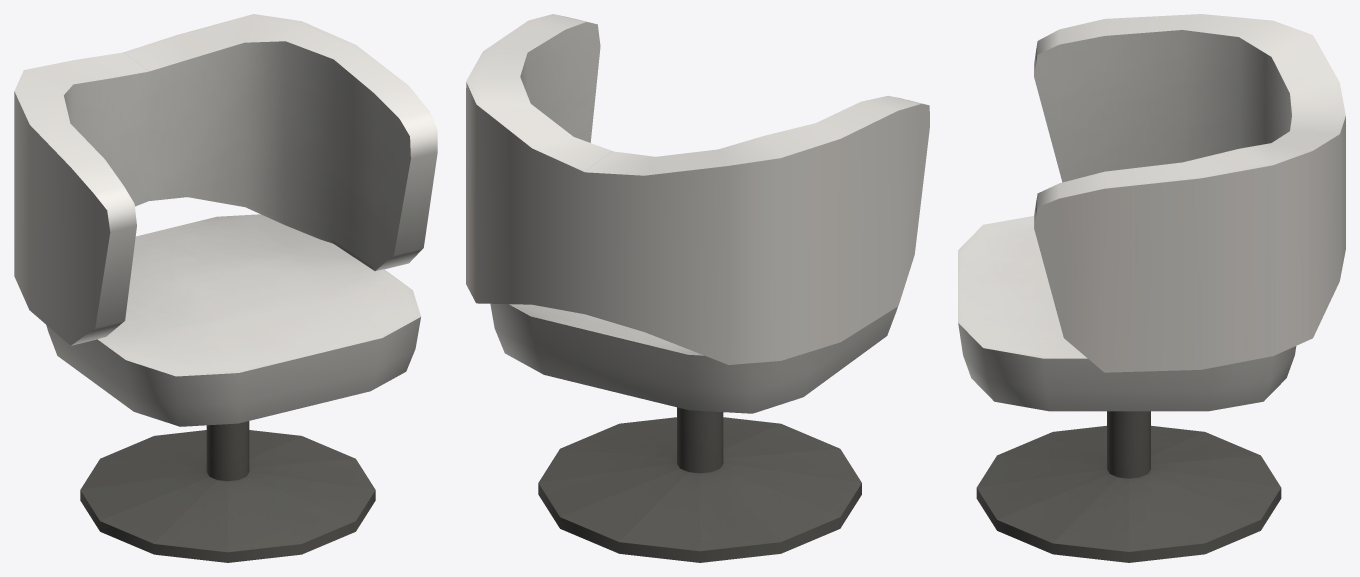
Rendered from Chair.fbx.
3 views of the same model, side by side, from view 1: azimuth 30°, elevation 25°; view 2: azimuth 150°, elevation 25°; view 3: azimuth 270°, elevation 25° (orthographic). The views are drawn at different scales.
Visible parts, largest first — view 1: Chair; view 2: Chair; view 3: Chair.
Part boxes in pixels (x1,y1,x2,y2): Chair: [14, 14, 437, 562]; Chair: [466, 14, 929, 562]; Chair: [958, 14, 1345, 562].
Size of the model in its own units: 168 by 187 by 162.
Materials: 1 (1 with a texture image).
